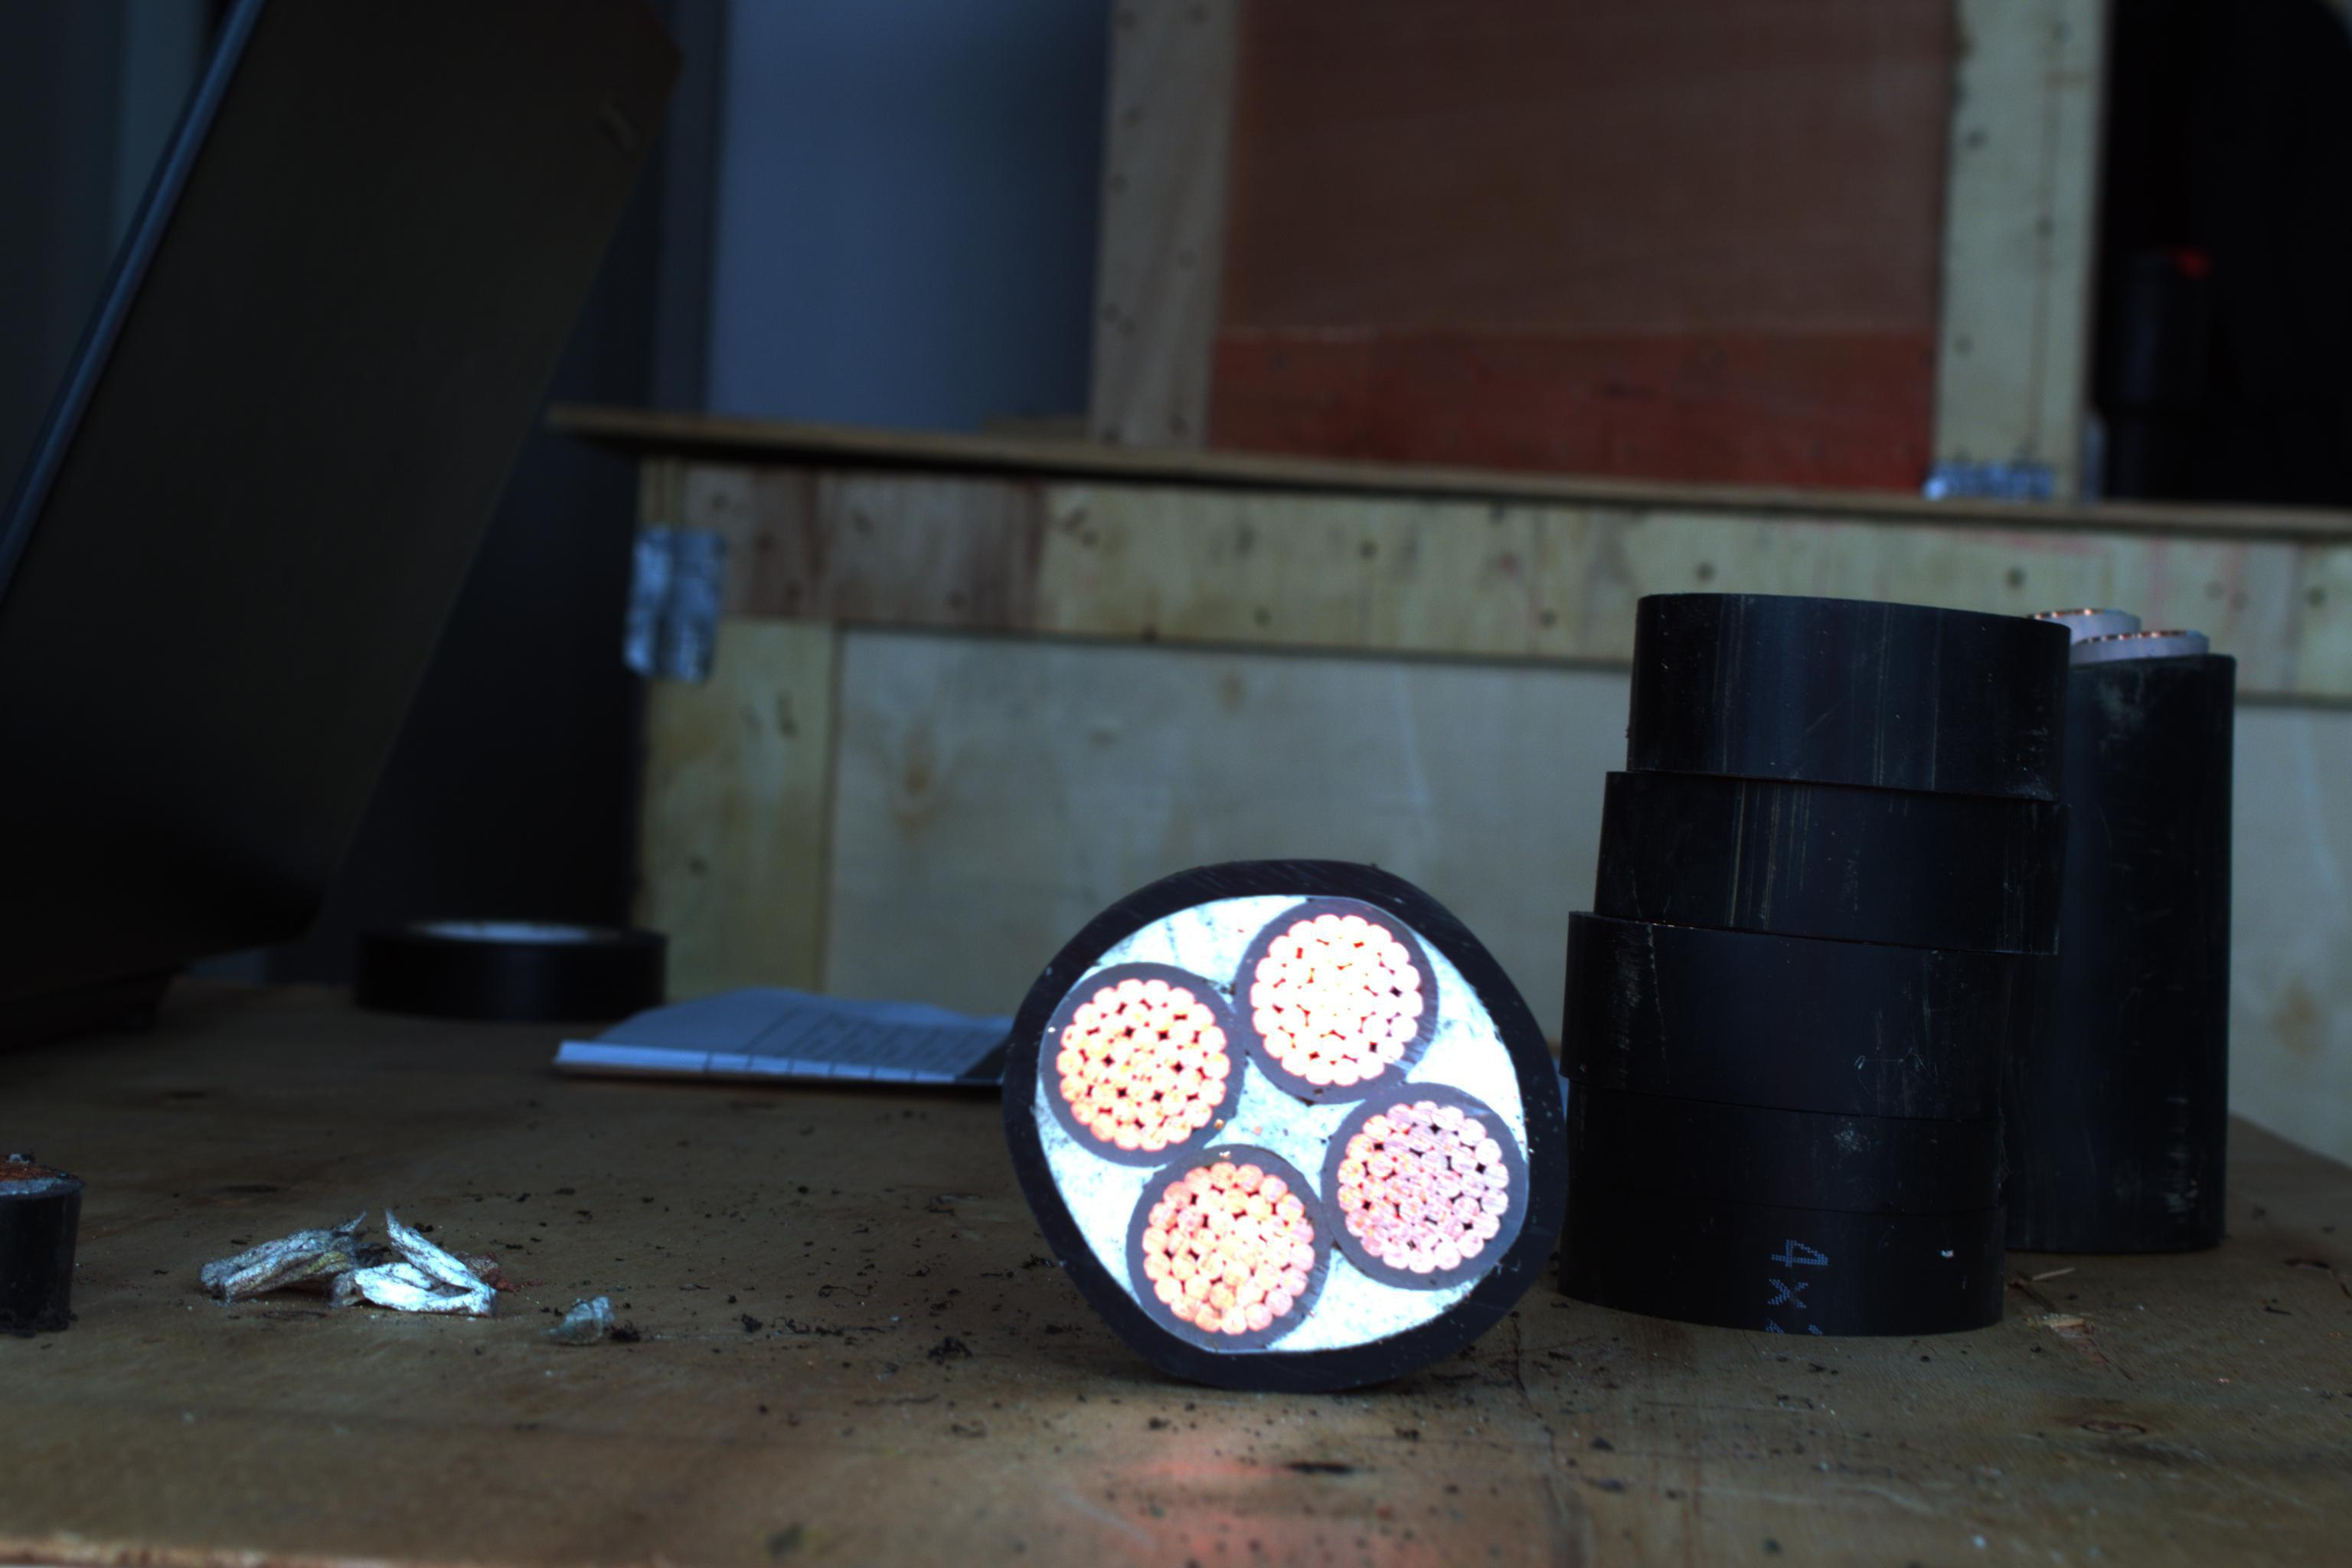YJV_0.6_1kV_4x240: (1004, 864, 1563, 1395)
